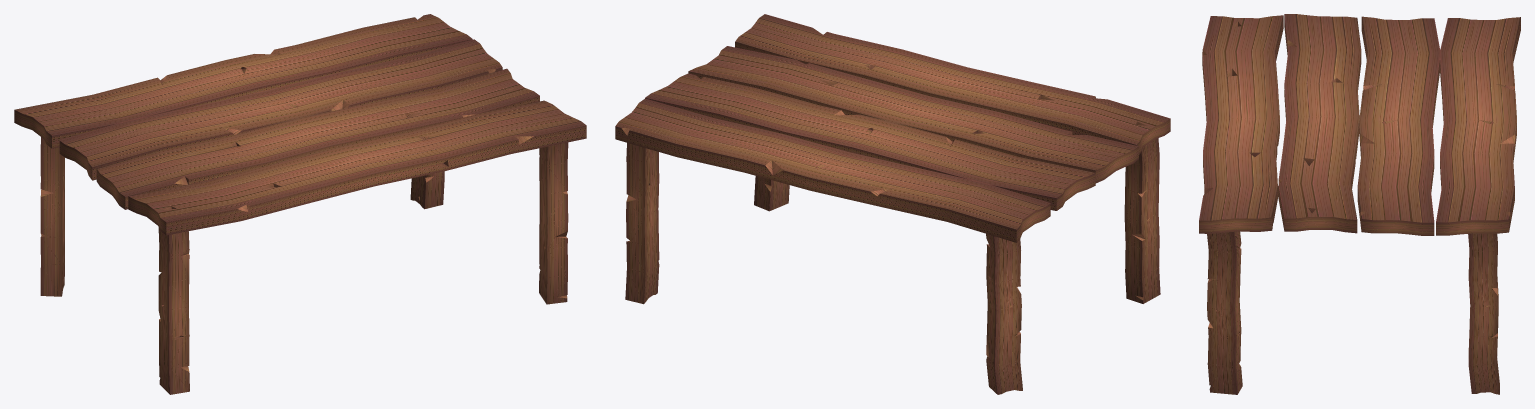
The model's file is TABLE.FBX.
3 renders of one model, left to right at view 1: azimuth 30°, elevation 25°; view 2: azimuth 150°, elevation 25°; view 3: azimuth 270°, elevation 25°, orthographic.
Visible parts, largest first — view 1: table..the whole thign; view 2: table..the whole thign; view 3: table..the whole thign.
Part boxes in pixels (x1,y1,x2,y2): table..the whole thign: (14, 14, 586, 394); table..the whole thign: (615, 14, 1170, 394); table..the whole thign: (1199, 14, 1520, 394).
Size of the model in its own units: 135 by 54.13 by 88.27.
